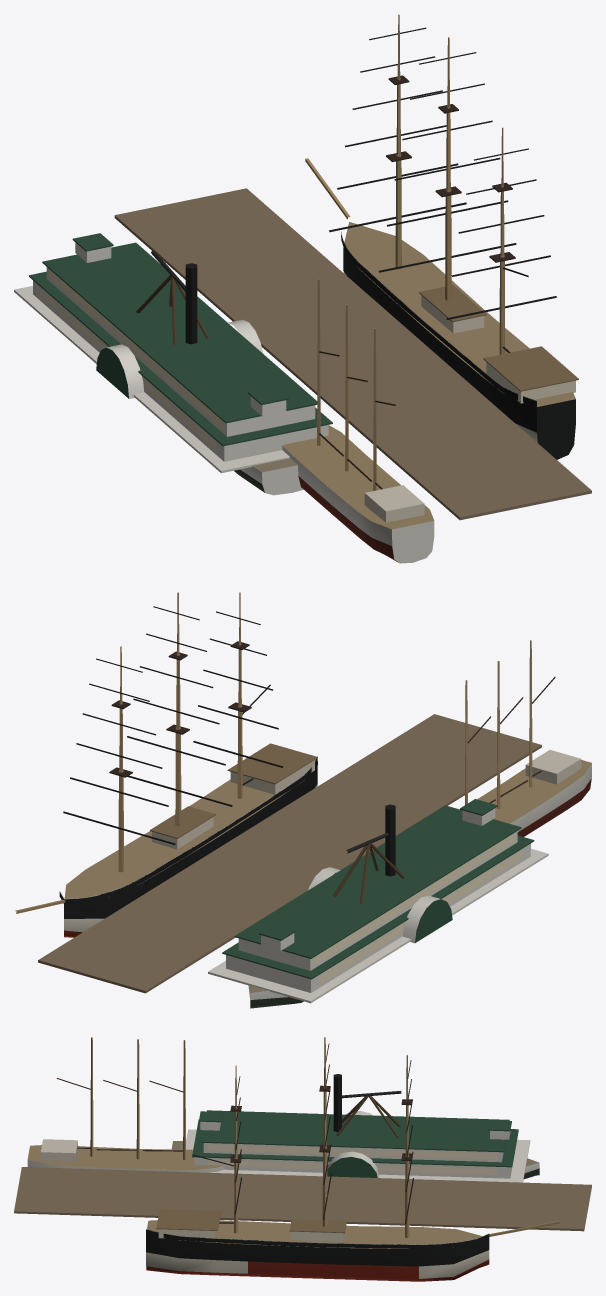
The model's file is hydePier_lod1.glb.
3 renders of one model, top to bottom at view 1: azimuth 30°, elevation 25°; view 2: azimuth 150°, elevation 25°; view 3: azimuth 270°, elevation 25°, orthographic. The views are drawn at different scales.
Visible parts, largest first — view 1: L1_wood, L1_paint, L1_shop; view 2: L1_wood, L1_paint, L1_shop; view 3: L1_wood, L1_paint, L1_shop.
Boxes of the visible parts, <box> form: L1_wood: <box>114,14,591,529</box>; L1_paint: <box>14,231,575,563</box>; L1_shop: <box>40,269,224,449</box>; L1_wood: <box>15,592,591,993</box>; L1_paint: <box>59,750,591,1008</box>; L1_shop: <box>313,833,521,983</box>; L1_wood: <box>14,1037,591,1248</box>; L1_paint: <box>27,1074,539,1281</box>; L1_shop: <box>207,1144,497,1174</box>.
Size of the model in its own units: 74.86 by 59.3 by 131.
